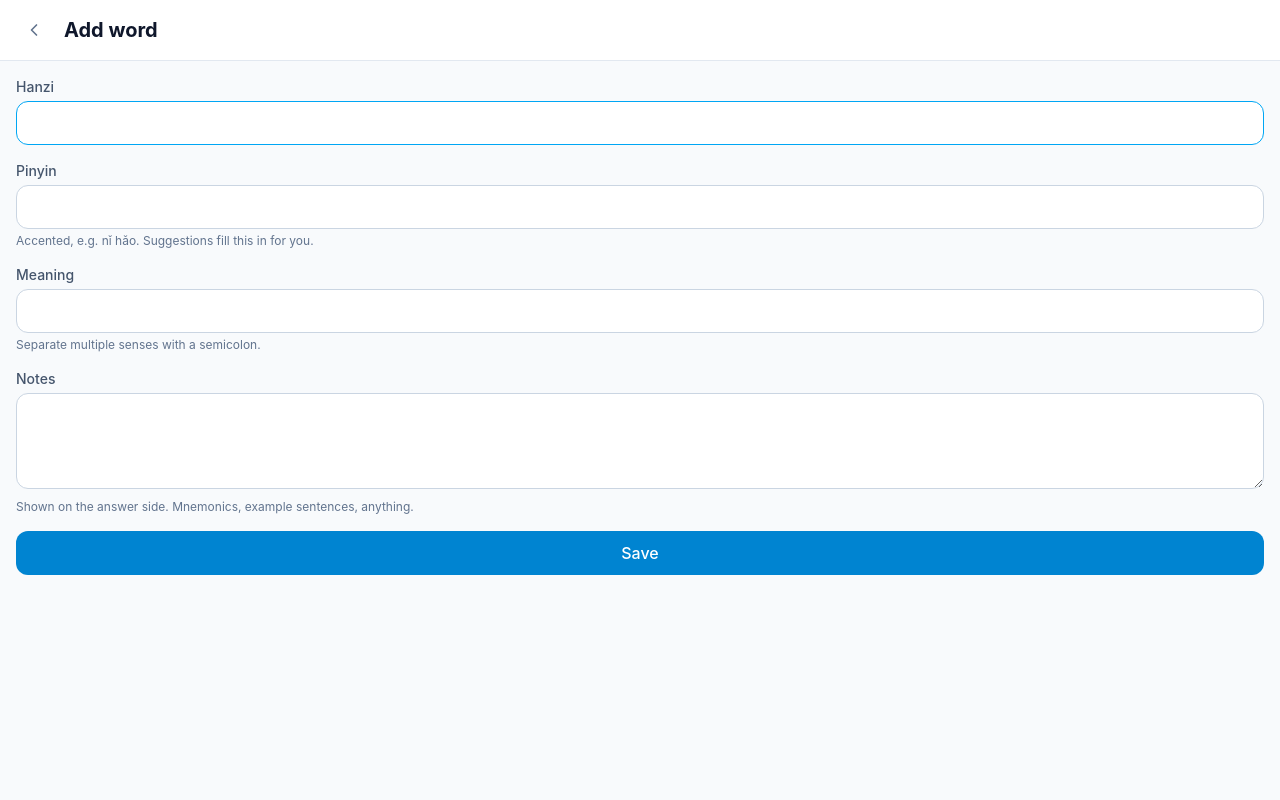
Test: NoteEditorPage: creating › overwrites values the user typed by hand
The width and height of the screenshot is (1280, 800).
Type "my own gloss" into the field labelled "Meaning".
click(640, 311); type("my own gloss")  # box x1=16 y1=289 x2=1264 y2=333
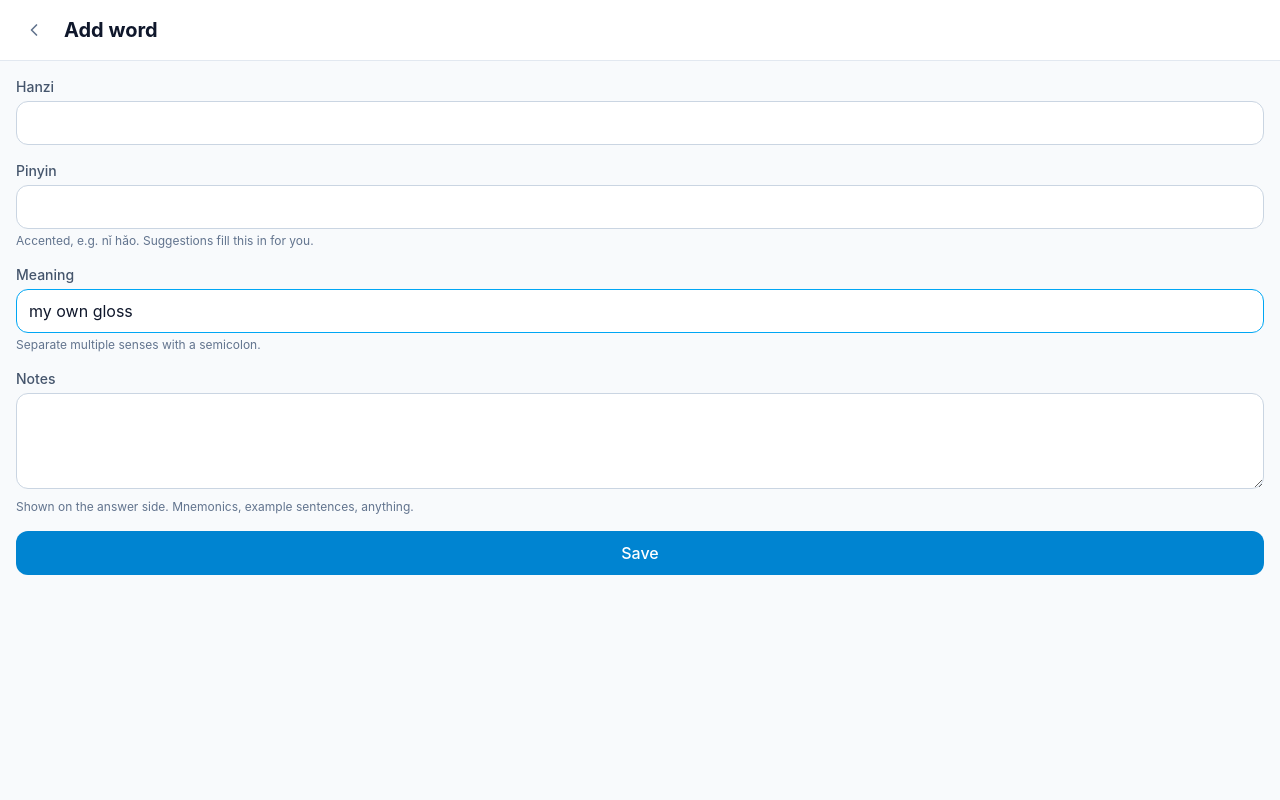
Type "好" into the field labelled "Hanzi".
click(640, 123); type("好")  # box x1=16 y1=101 x2=1264 y2=145
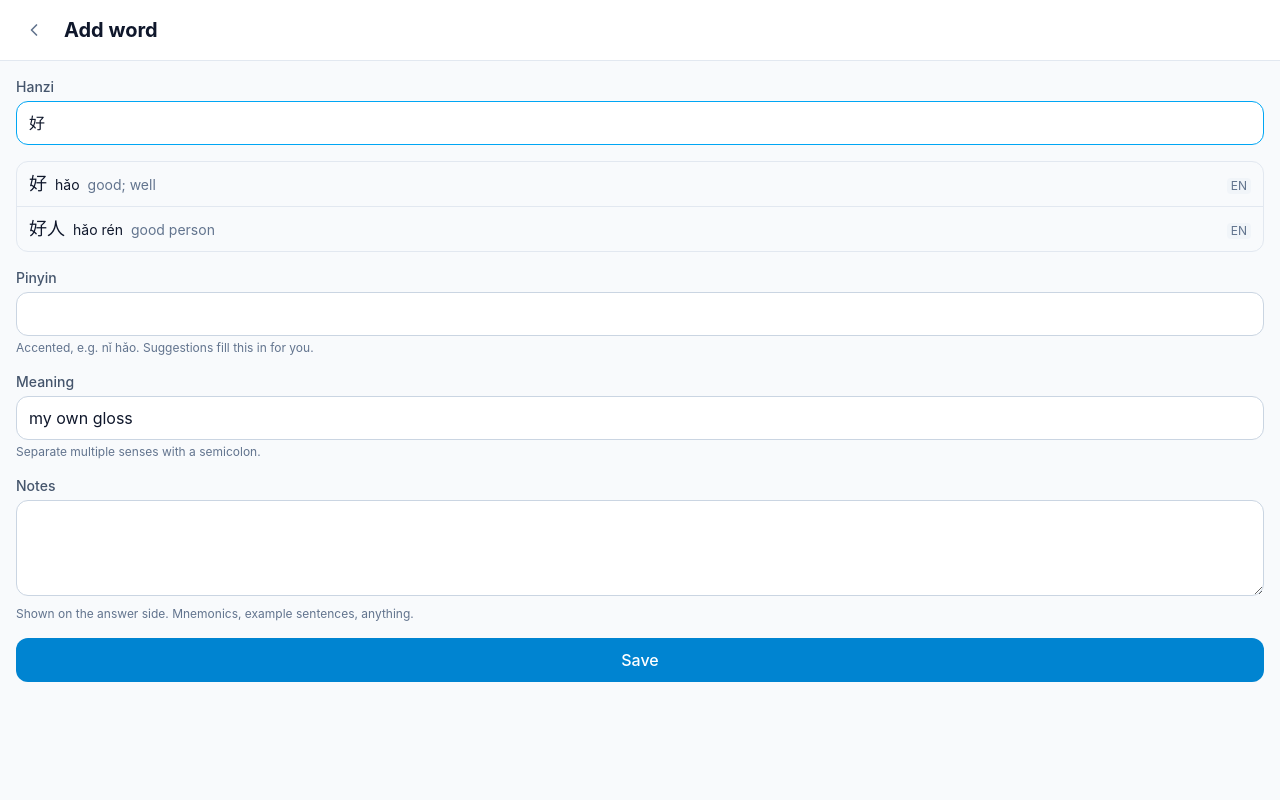
Click the button "好人 hǎo rén good person en".
click(47, 228)  # box x1=17 y1=207 x2=1263 y2=251
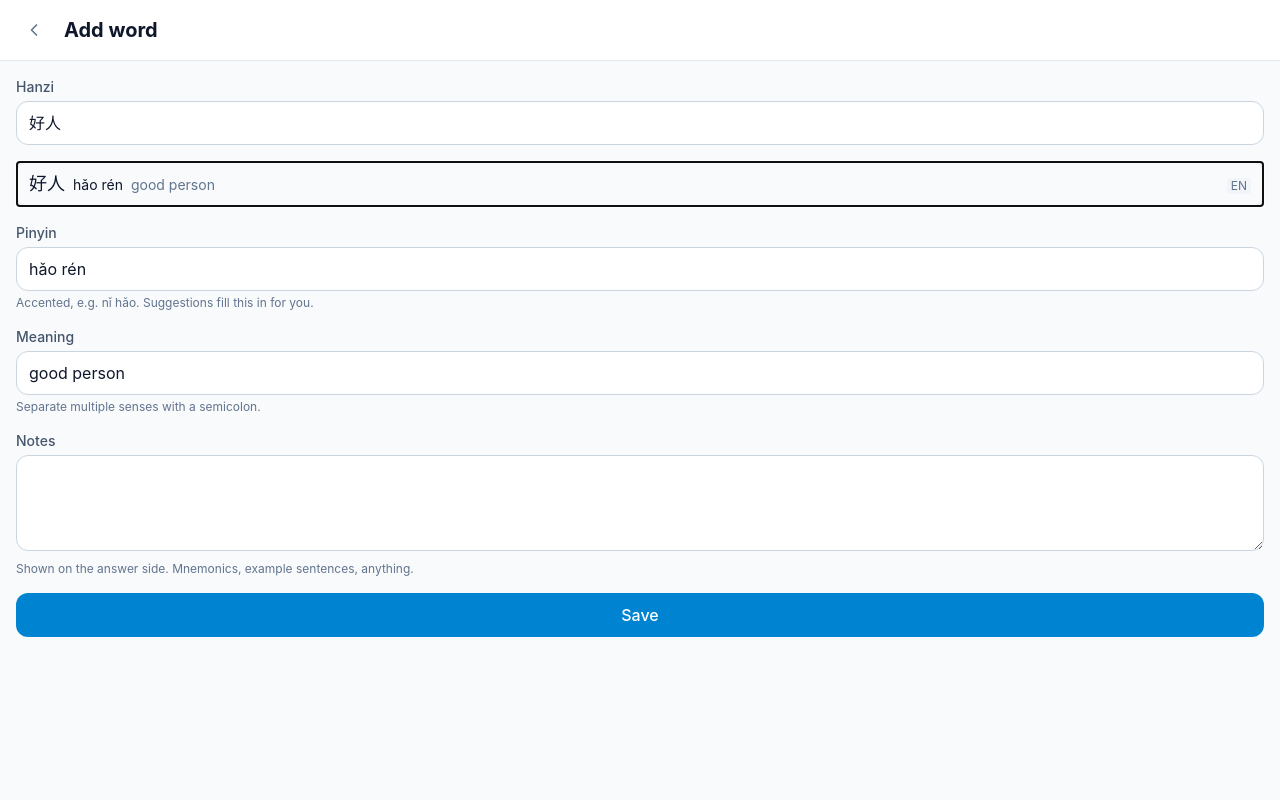
expect the field labelled "Pinyin" holds "hǎo rén": met, box x1=16 y1=247 x2=1264 y2=291
expect the field labelled "Meaning" holds "good person": met, box x1=16 y1=351 x2=1264 y2=395
